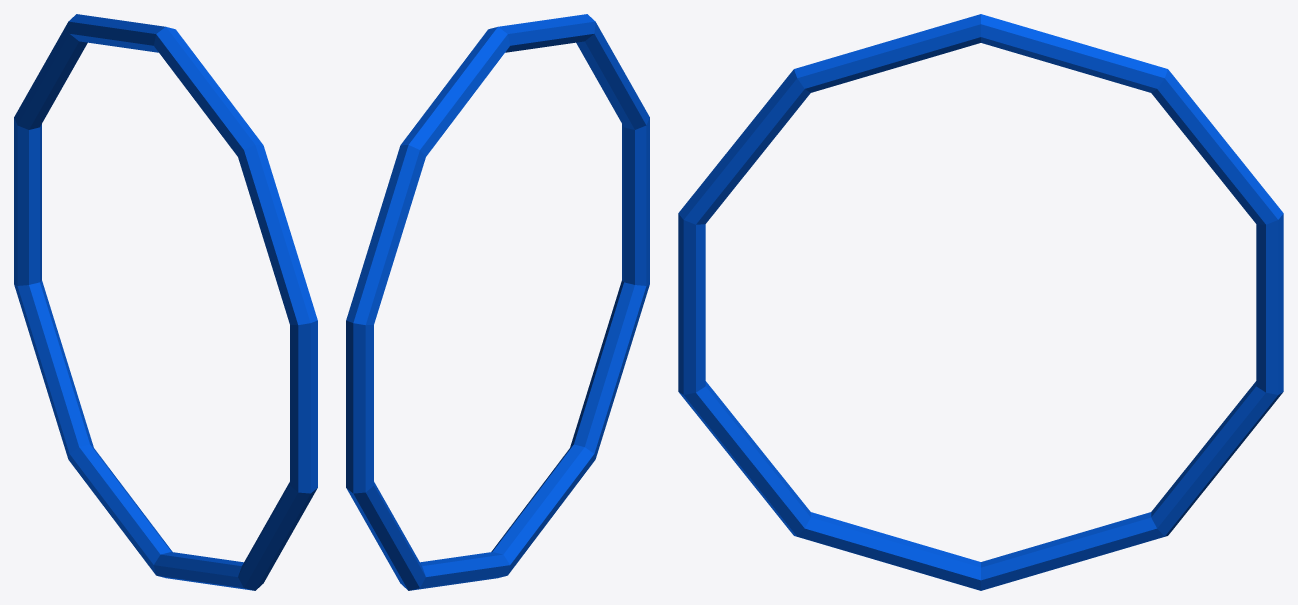
File: ring_personal.gltf
3 views of the same model, side by side, from view 1: azimuth 30°, elevation 25°; view 2: azimuth 150°, elevation 25°; view 3: azimuth 270°, elevation 25° (orthographic). The views are drawn at different scales.
Parts seen in each view (by area): view 1: Torus; view 2: Torus; view 3: Torus.
Boxes of the visible parts, box(x1,y1,x2,y2) form: Torus: box(14, 14, 317, 590); Torus: box(346, 14, 649, 590); Torus: box(678, 14, 1283, 590).
Size of the model in its own units: 0.0975 by 2.1 by 2.
